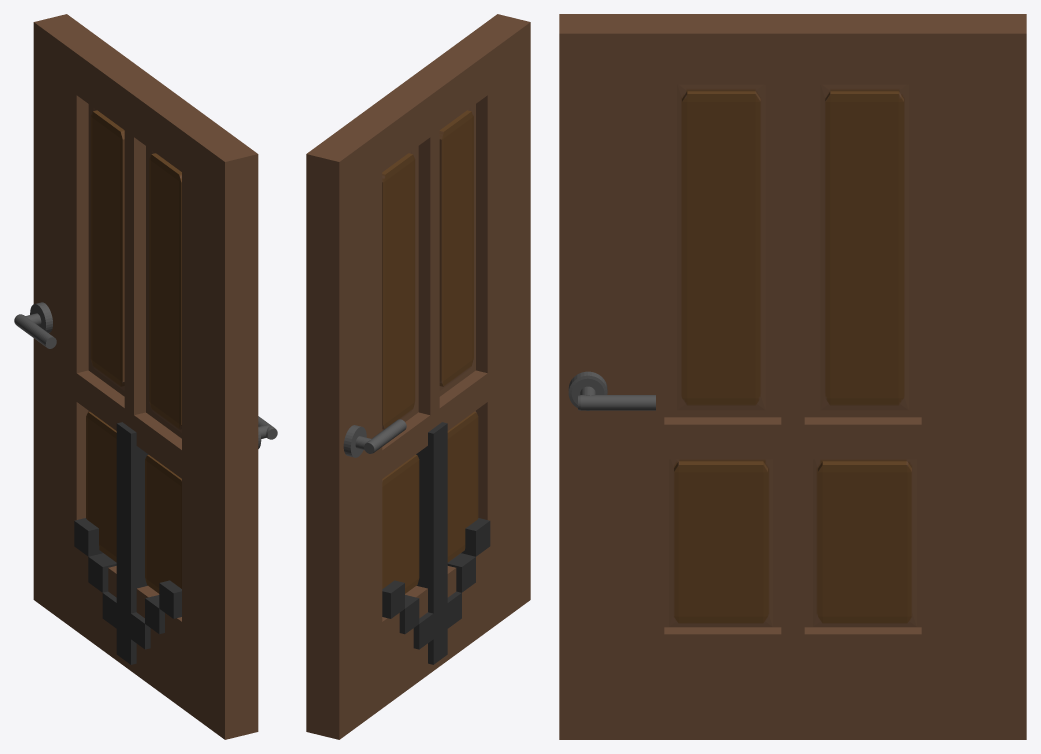
Rendered from Door_Down.glb.
The picture shows the model from 3 angles, left to right: view 1: azimuth 30°, elevation 25°; view 2: azimuth 150°, elevation 25°; view 3: azimuth 270°, elevation 25°; orthographic projection. The views are drawn at different scales.
Parts seen in each view (by area): view 1: Cube, Cube.001, Cylinder.004; view 2: Cube, Cube.001, Cylinder.004, Cylinder.005; view 3: Cube, Cylinder.002, Cylinder.
Boxes of the visible parts, x1,y1,x2,y2 form: Cube: (33, 14, 258, 739); Cube.001: (74, 422, 181, 664); Cylinder.004: (14, 314, 56, 348); Cube: (306, 14, 530, 739); Cube.001: (382, 422, 490, 664); Cylinder.004: (364, 419, 406, 453); Cylinder.005: (343, 425, 366, 457); Cube: (559, 14, 1026, 739); Cylinder.002: (578, 395, 655, 410); Cylinder: (568, 371, 607, 410).
Bounding box in the file's own units: 0.4 × 2.5 × 1.5.
8 materials, 7 textured.
